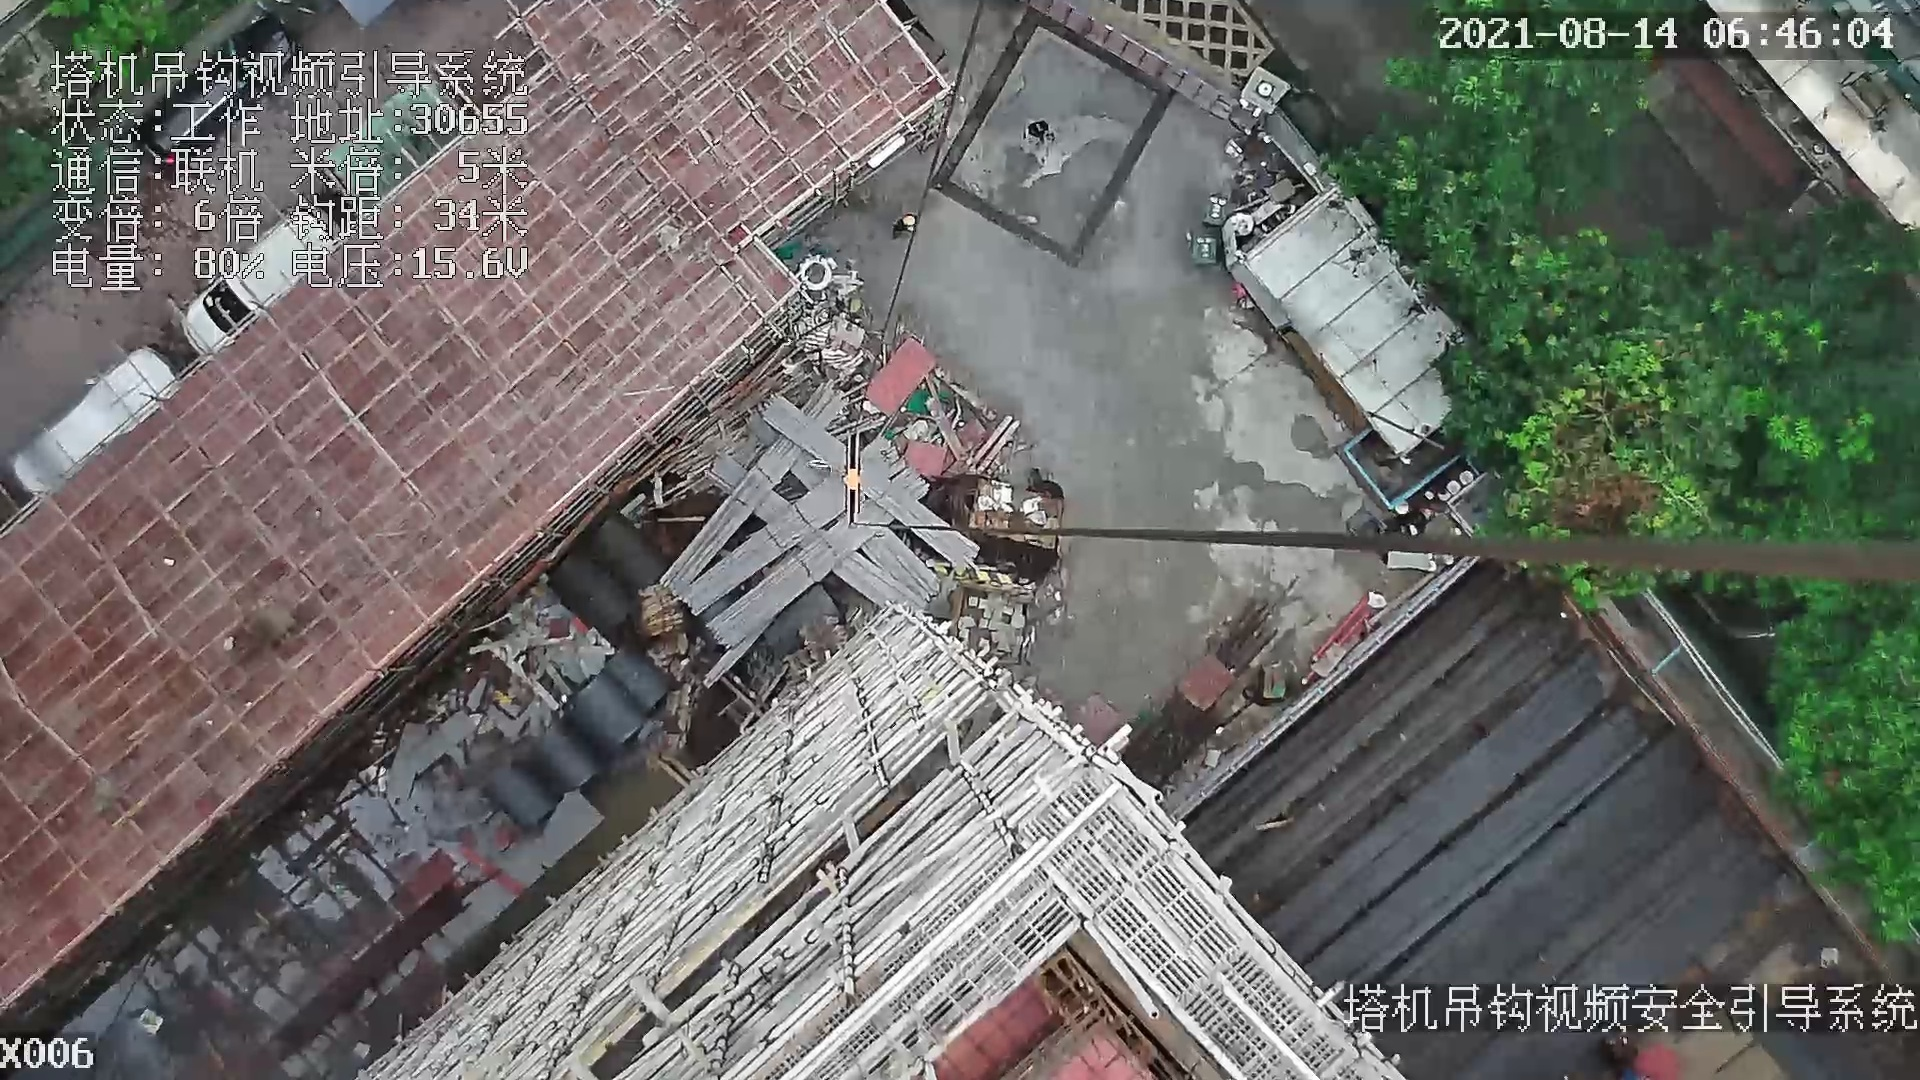helmet: (902, 216, 917, 225)
hook: (840, 430, 867, 530)
hopper: (1334, 412, 1464, 512)
person: (1023, 117, 1056, 148), (892, 213, 919, 239)
